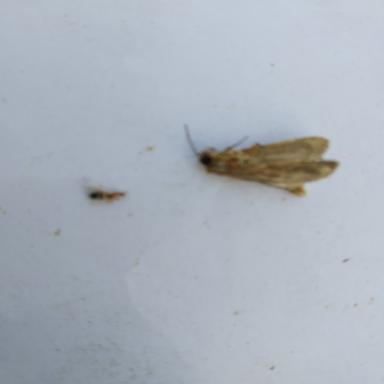abw: (177, 121, 341, 200)
